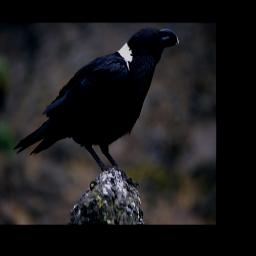Crow: (13, 27, 180, 190)
